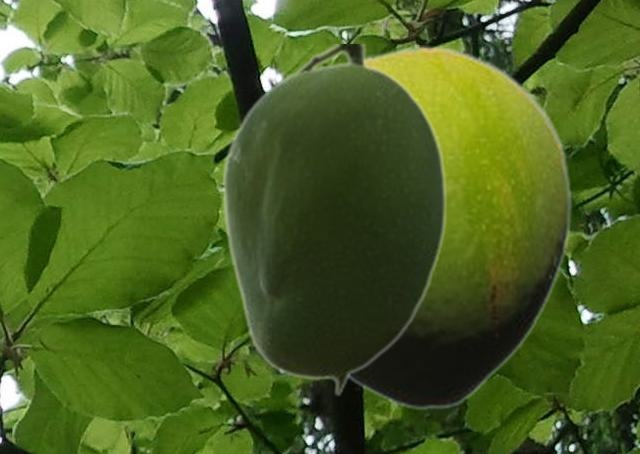green_mango: (348, 45, 572, 410), (220, 44, 446, 396)
